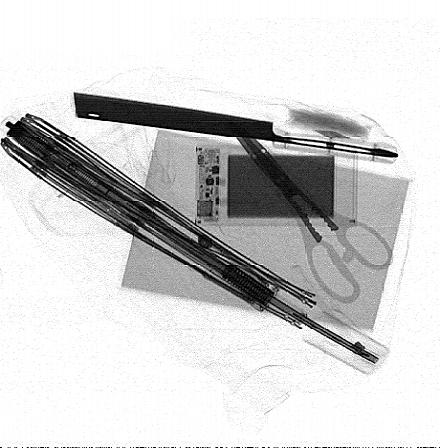Knife: (72, 89, 397, 167)
Powerbank: (196, 145, 358, 227)
Scissors: (231, 121, 397, 304)
